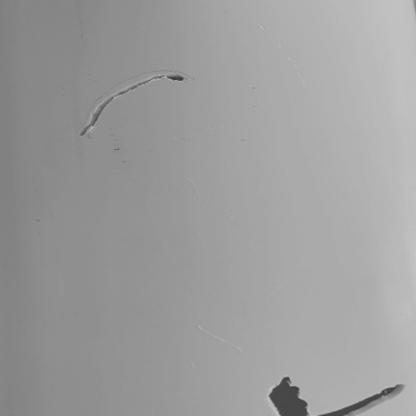fengxi: (78, 75, 189, 137), (312, 382, 406, 416)
kongdong: (268, 375, 310, 416)
